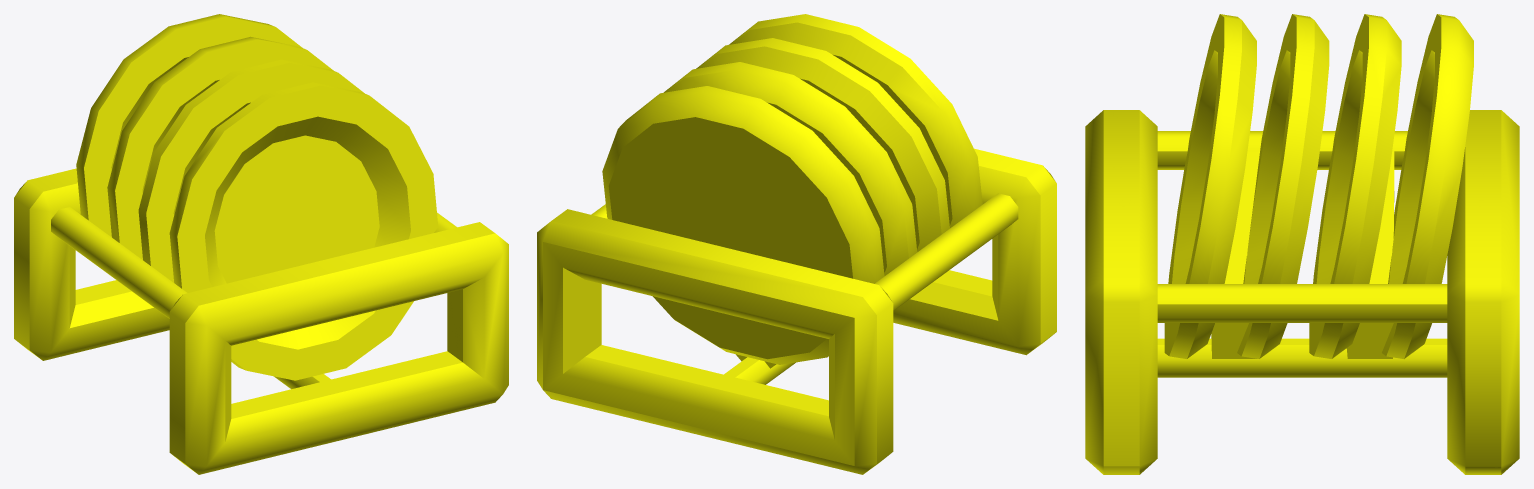
Rendered from kaykit-dishrack-plates.glb.
The picture shows the model from 3 angles, left to right: view 1: azimuth 30°, elevation 25°; view 2: azimuth 150°, elevation 25°; view 3: azimuth 270°, elevation 25°; orthographic projection. The views are drawn at different scales.
Parts seen in each view (by area): view 1: dishrack_plates; view 2: dishrack_plates; view 3: dishrack_plates.
Part boxes in pixels (x1,y1,x2,y2): dishrack_plates: (14, 14, 508, 474); dishrack_plates: (537, 14, 1056, 474); dishrack_plates: (1085, 14, 1519, 474).
Size of the model in its own units: 1.2 by 1.1 by 1.2.
